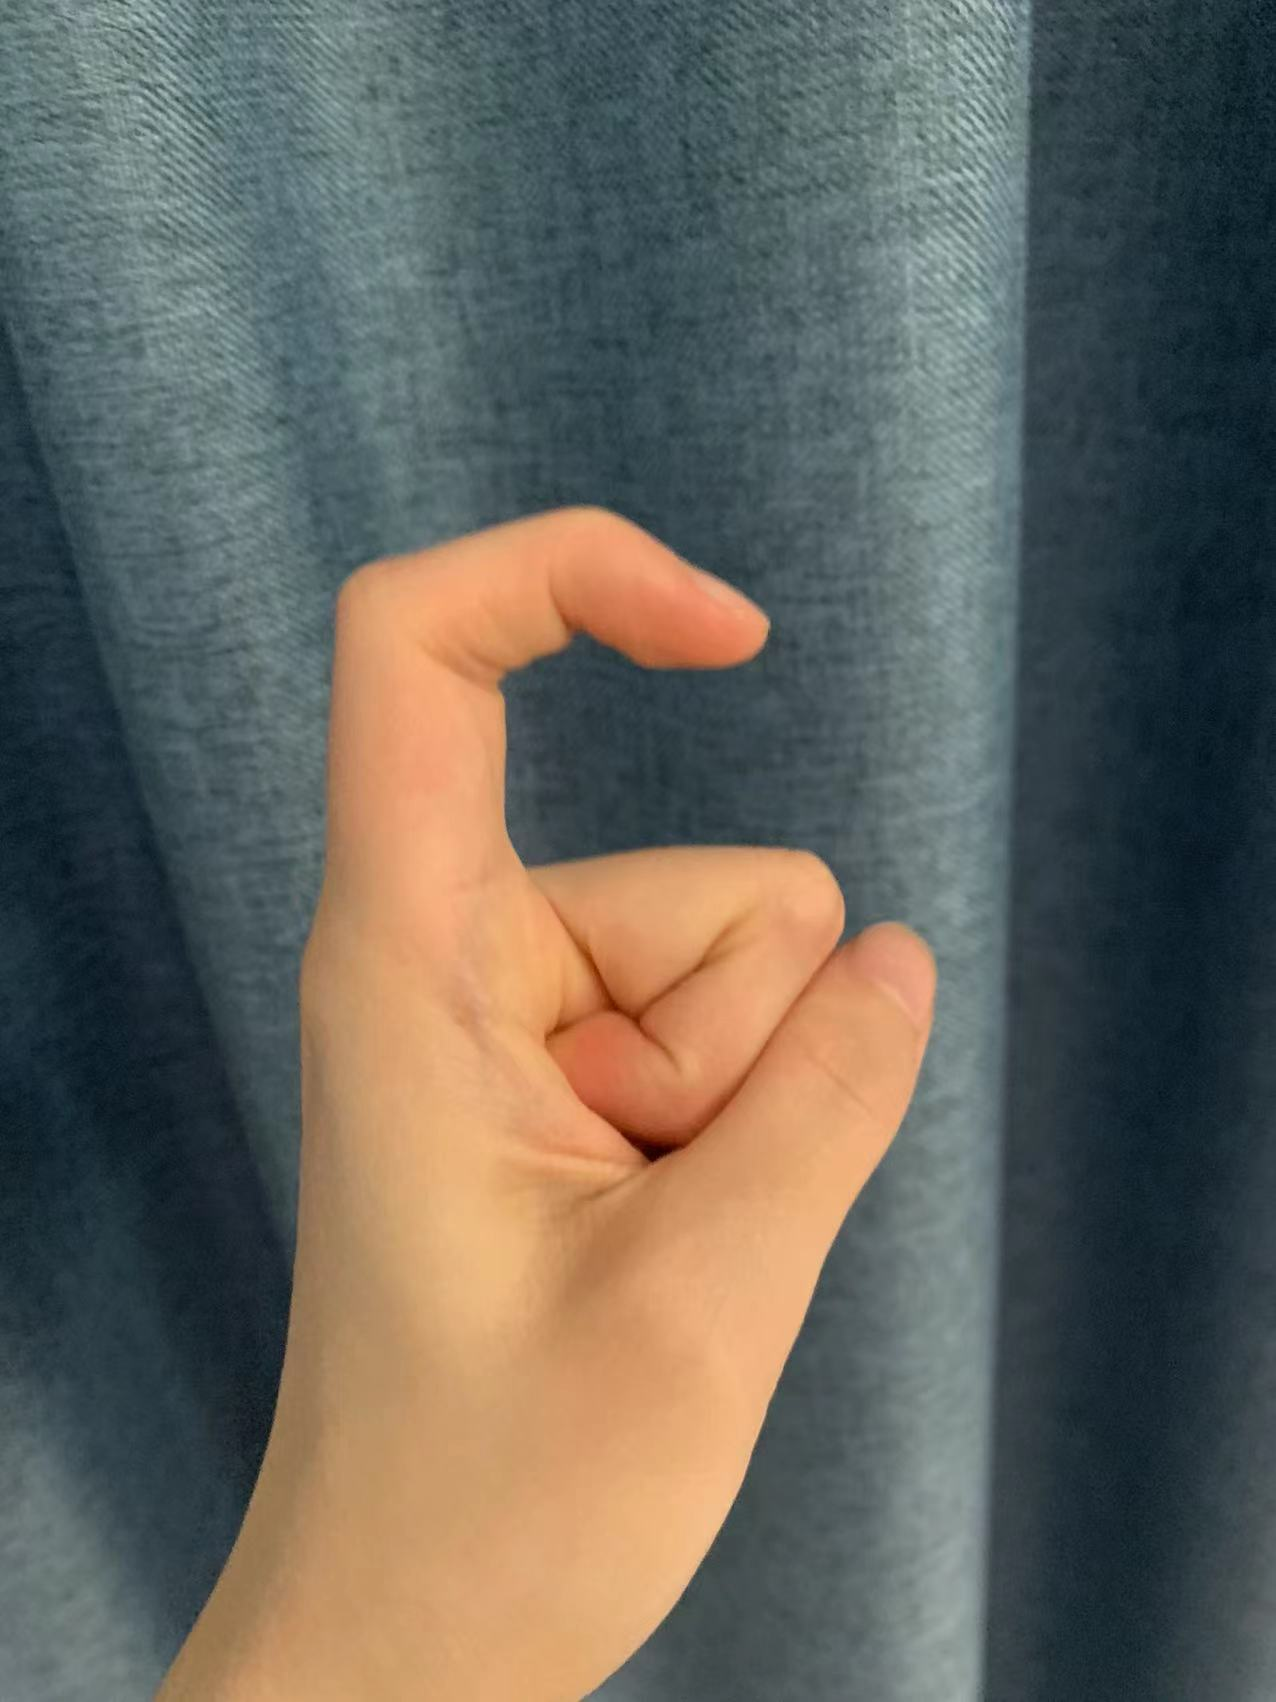anticlockwise: (220, 489, 1000, 1581)
